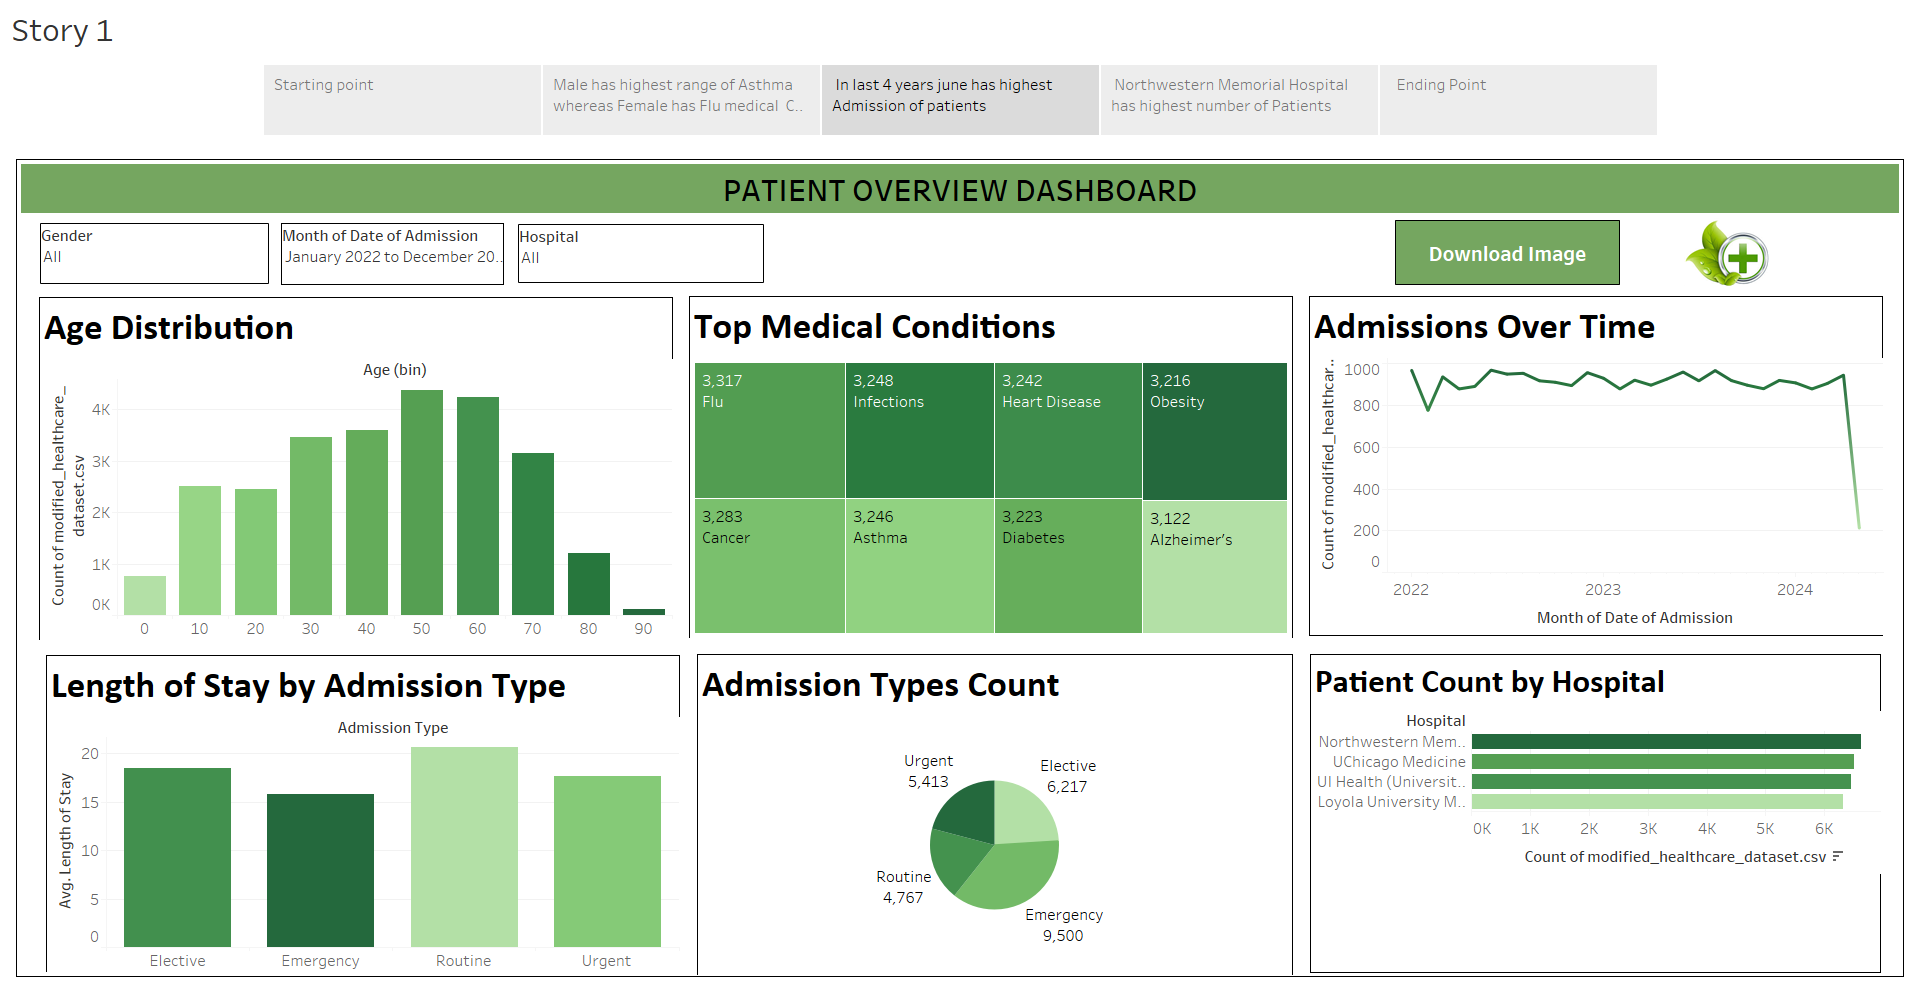

The page's visual inventory and layout, read from the dashboard file:
{"tool":"tableau","page":{"name":"Dashboard 1","canvas":[1000,1000],"units":"permille","ordinal":0},"visuals":[{"type":"title","box":[4.7,9.1,990.6,57.4]},{"type":"image","param":"Image/health care.jpg","box":[825,79.9,155.1,82.4]},{"type":"dashboard-object","box":[728.4,82.4,118.3,78.7]},{"type":"filter","title":"Sheet 2","param":"[federated.1vwjf32122c6xp197zx8q0715ybu].[none:Gender:nk]","box":[16.8,86.1,120.2,73.7]},{"type":"filter","title":"Sheet 6","param":"[federated.1vwjf32122c6xp197zx8q0715ybu].[tmn:Date of Admission:qk]","box":[143.5,86.1,117.2,74.9]},{"type":"filter","title":"Sheet 5","param":"[federated.1vwjf32122c6xp197zx8q0715ybu].[none:Hospital:nk]","box":[267.9,87.4,129.2,71.2]},{"type":"worksheet","title":"Sheet 3","mark":"Square","box":[357.9,173.5,316.8,410.7]},{"type":"worksheet","title":"Sheet 6","mark":"Automatic","rows":["modified_healthcare_dataset.csv_CF0080983AFB4ABCB07073D8DDD8"],"cols":["Date of Admission"],"box":[683.2,173.5,301.8,408.2]},{"type":"worksheet","title":"Sheet 2","mark":"Automatic","rows":["modified_healthcare_dataset.csv_CF0080983AFB4ABCB07073D8DDD8"],"cols":["Age (bin)"],"box":[16.3,174.8,333.1,412]},{"type":"worksheet","title":"Sheet 7","mark":"Pie","box":[362.1,603,312.6,384.5]},{"type":"worksheet","title":"Sheet 5","mark":"Automatic","rows":["Hospital"],"cols":["modified_healthcare_dataset.csv_CF0080983AFB4ABCB07073D8DDD8"],"box":[683.8,603,299.9,382]},{"type":"worksheet","title":"Sheet 4","mark":"Automatic","rows":["Length of Stay"],"cols":["Admission Type"],"box":[19.9,604.2,333.1,380.8]}]}

Visuals, with their boxes on the dashboard's canvas, which has no fixed pixel size, in thousandths of its width and height (x1, y1, x2, y2). These are canvas units, not pixel positions in the 1920x993 screenshot, which may show the page scaled, cropped or inside an application window:
title: (5,9,995,66)
image: (825,80,980,162)
dashboard-object: (728,82,847,161)
"Sheet 2" filter: (17,86,137,160)
"Sheet 6" filter: (144,86,261,161)
"Sheet 5" filter: (268,87,397,159)
"Sheet 3" worksheet (Square marks): (358,174,675,584)
"Sheet 6" worksheet: (683,174,985,582)
"Sheet 2" worksheet: (16,175,349,587)
"Sheet 7" worksheet (Pie marks): (362,603,675,988)
"Sheet 5" worksheet: (684,603,984,985)
"Sheet 4" worksheet: (20,604,353,985)
